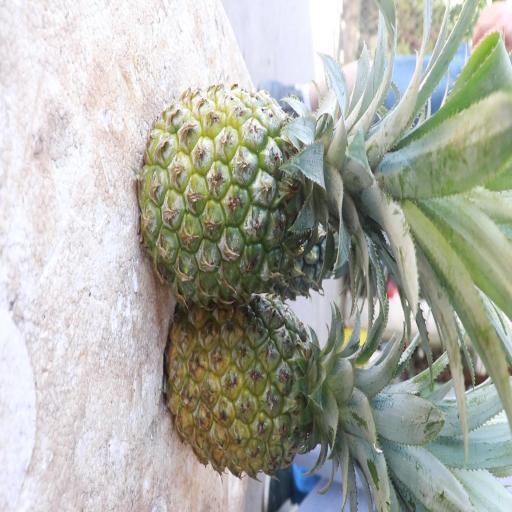------------------------------: (143, 88, 364, 299)
Pineapple - v8 v1: (166, 305, 350, 477)
